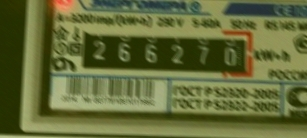0: (222, 44, 235, 66)
2: (91, 38, 106, 59), (169, 42, 182, 63)
6: (117, 41, 130, 61), (143, 42, 156, 61)
7: (194, 43, 208, 65)
screen: (71, 19, 260, 84)
